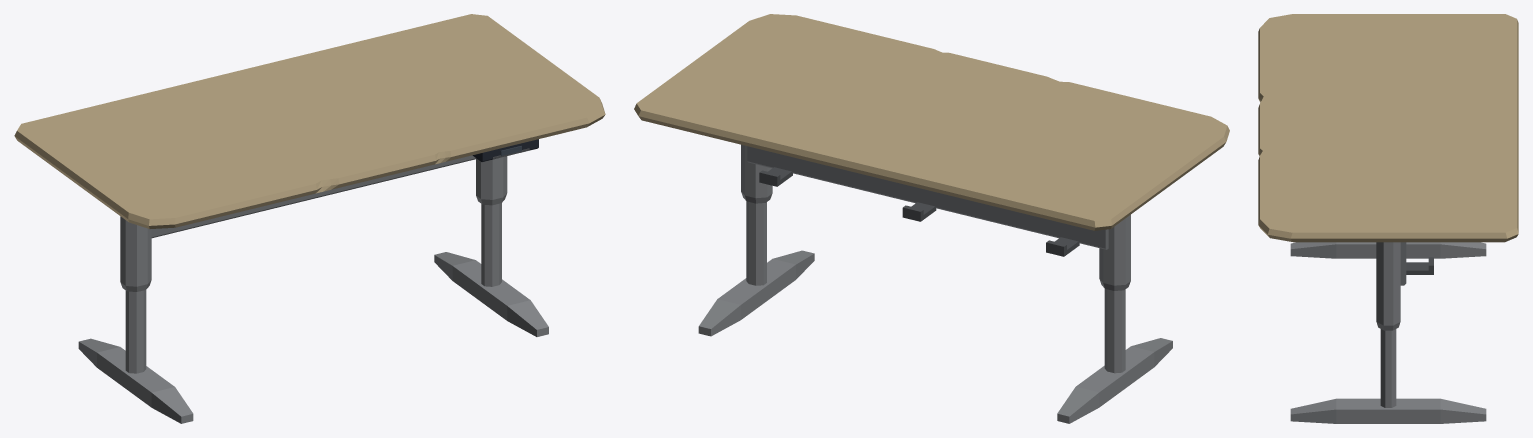
Rendered from sit-stand-desk.glb.
The picture shows the model from 3 angles, left to right: view 1: azimuth 30°, elevation 25°; view 2: azimuth 150°, elevation 25°; view 3: azimuth 270°, elevation 25°; orthographic projection. The views are drawn at different scales.
Visible parts, largest first — view 1: sit-stand-desk; view 2: sit-stand-desk; view 3: sit-stand-desk.
Boxes of the visible parts, bbox=[...] form: sit-stand-desk: bbox=[14, 14, 605, 423]; sit-stand-desk: bbox=[634, 14, 1229, 423]; sit-stand-desk: bbox=[1258, 14, 1518, 423].
Bounding box in the file's own units: 1.6 × 0.72 × 0.8.
